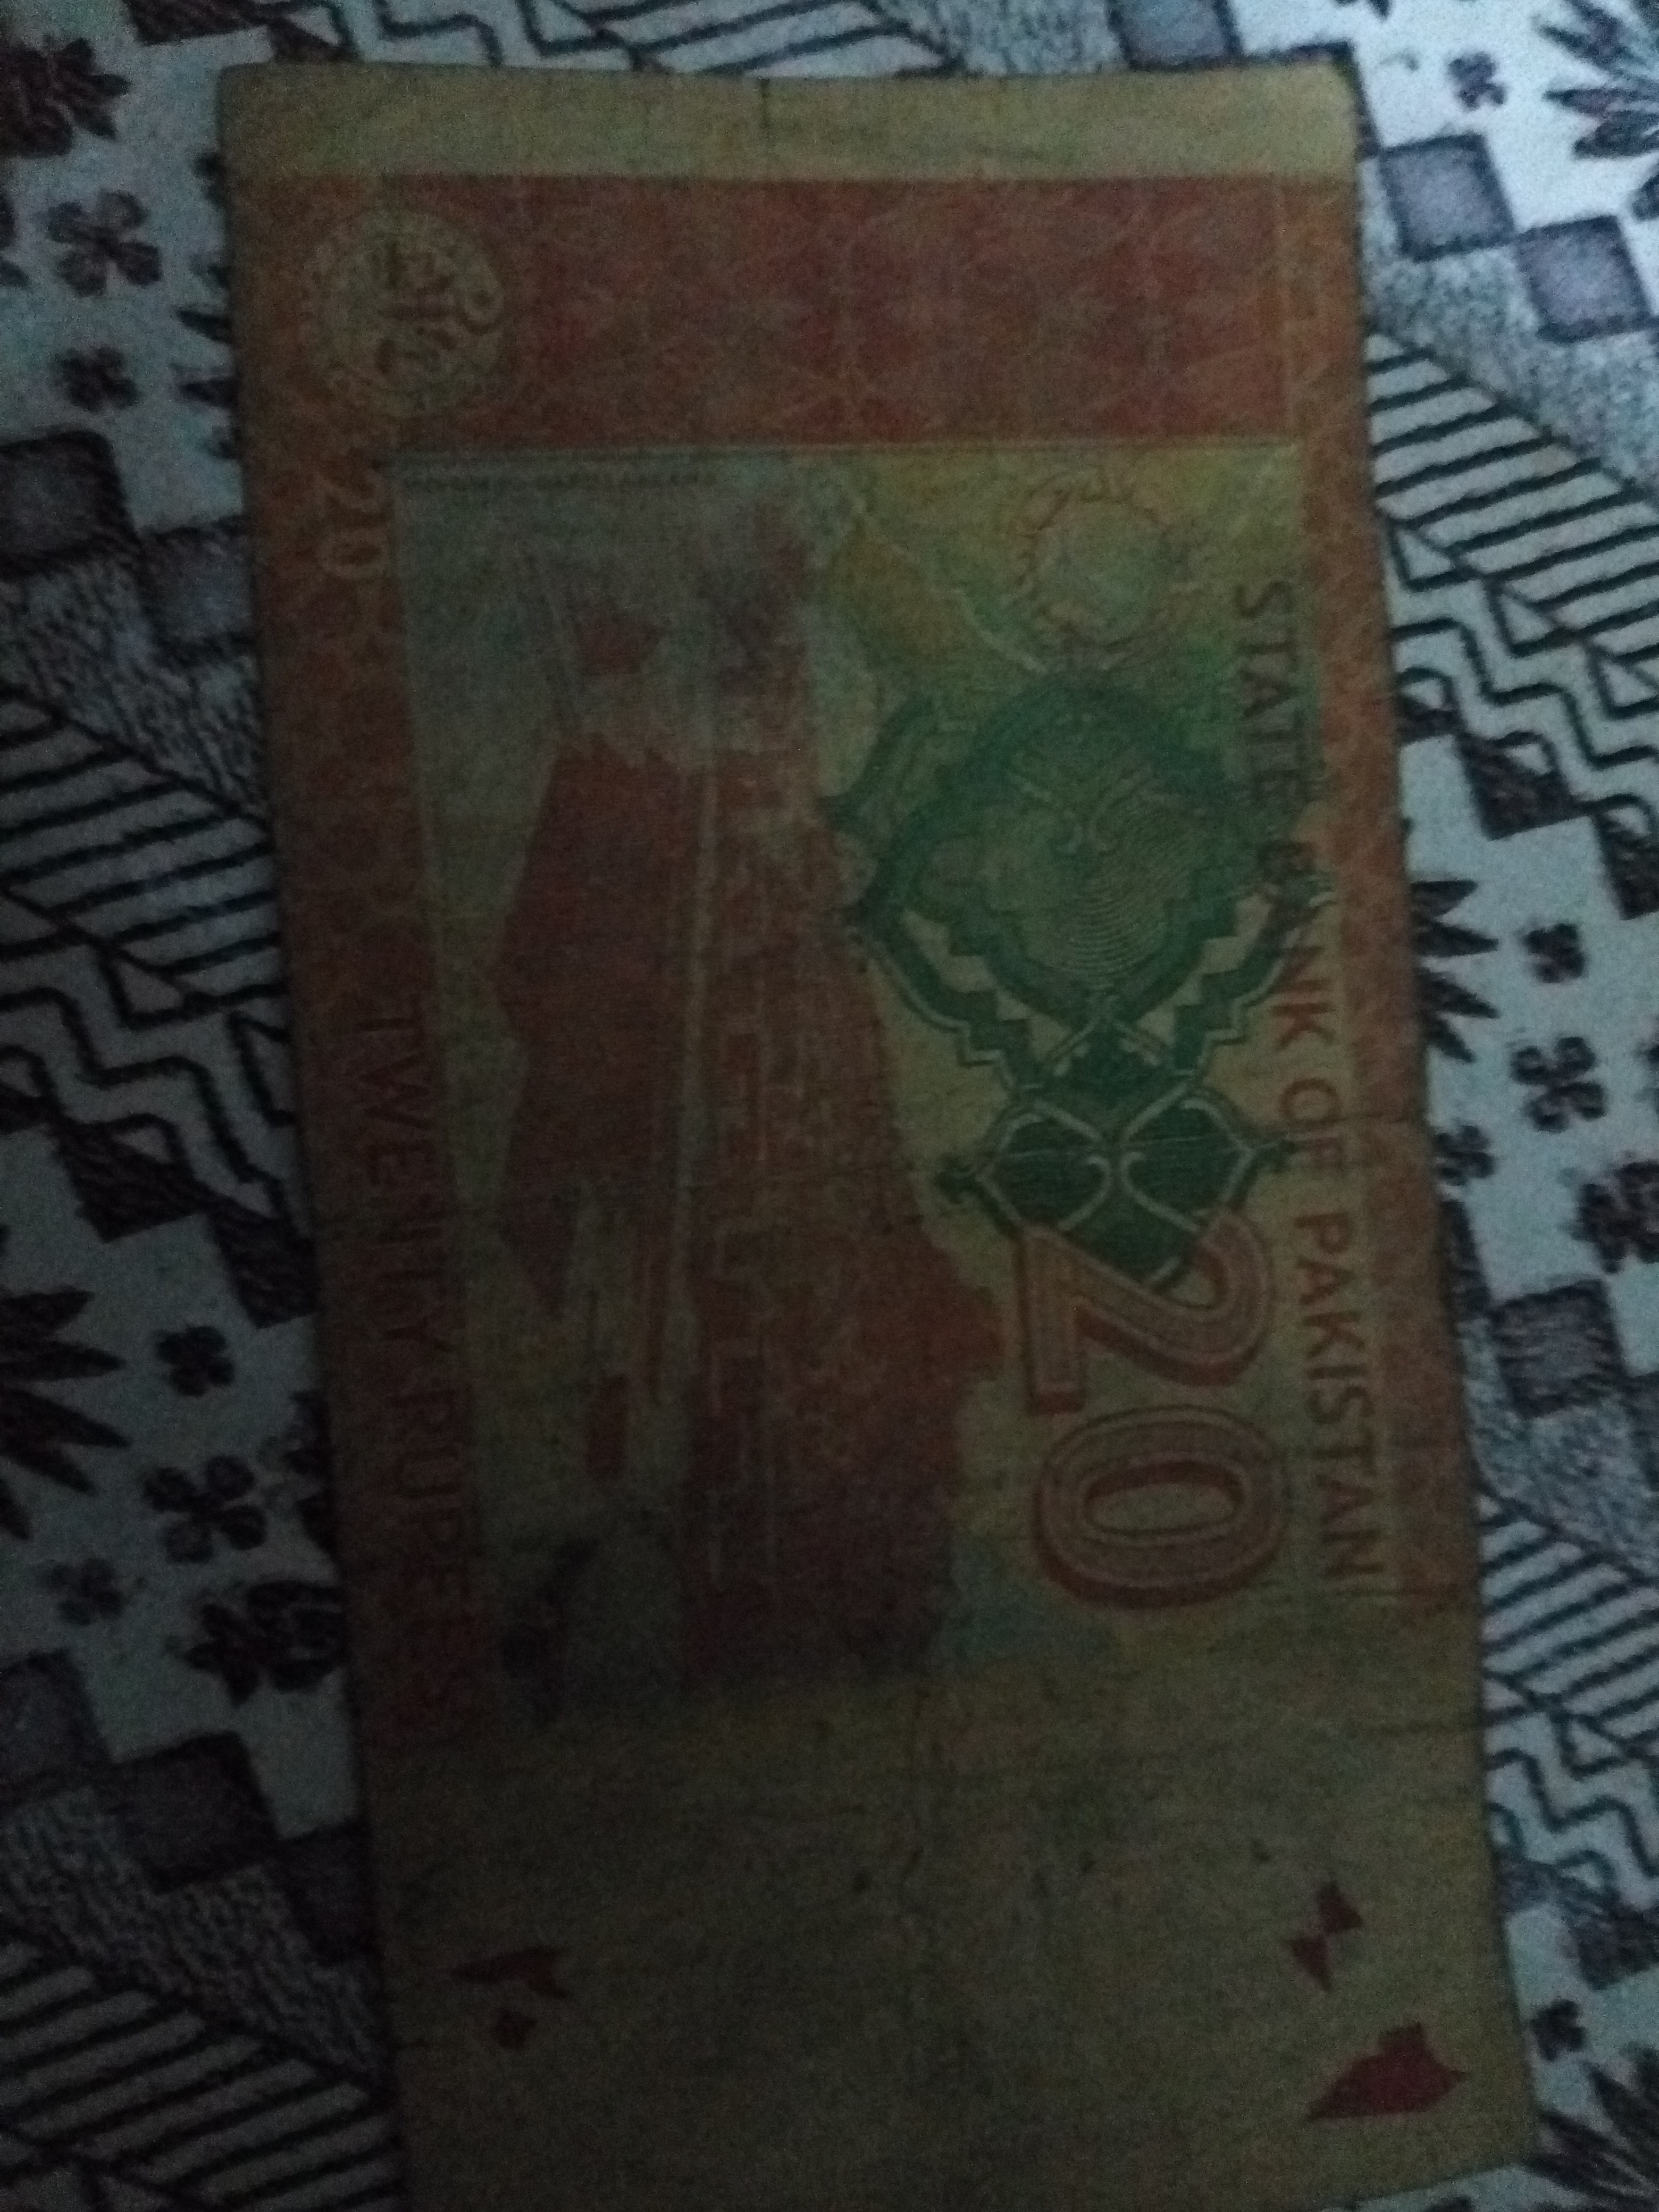20 rupee: (157, 75, 1593, 2174)
